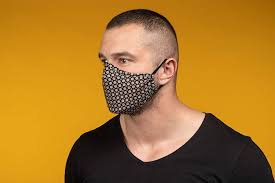with-mask: (92, 10, 185, 122)
